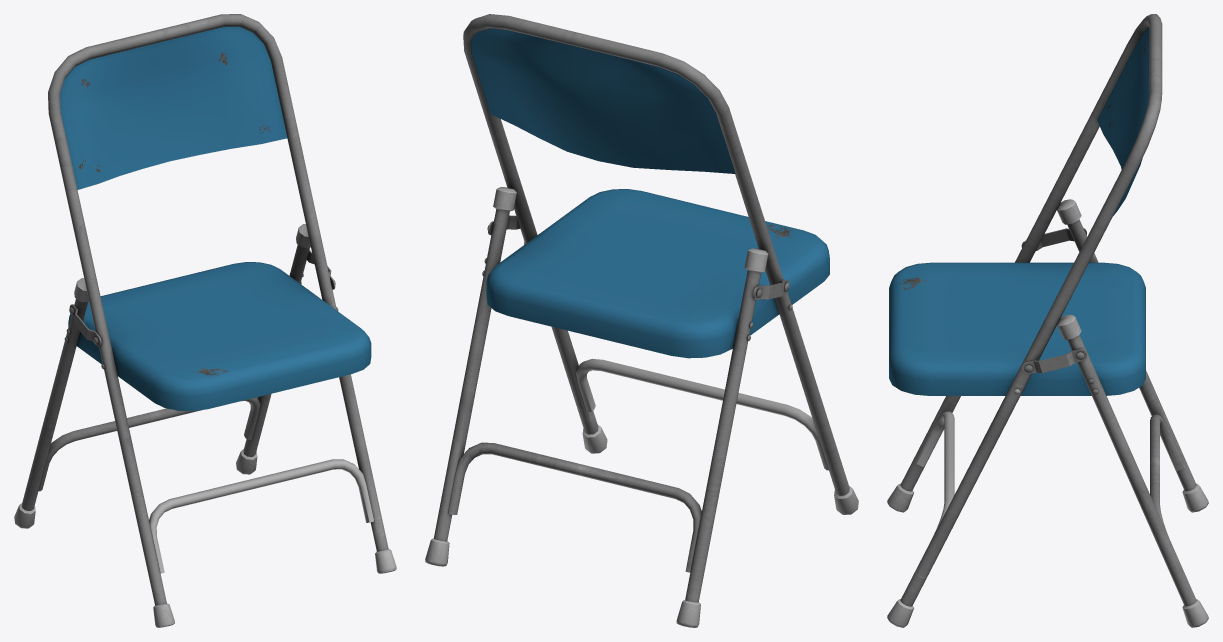
File: newChair6.glb
3 renders of one model, left to right at view 1: azimuth 30°, elevation 25°; view 2: azimuth 150°, elevation 25°; view 3: azimuth 270°, elevation 25°, orthographic. The views are drawn at different scales.
Parts seen in each view (by area): view 1: defaultMaterial.001; view 2: defaultMaterial.001; view 3: defaultMaterial.001.
Boxes of the visible parts, x1,y1,x2,y2 form: defaultMaterial.001: (14, 14, 396, 627); defaultMaterial.001: (425, 14, 858, 627); defaultMaterial.001: (887, 14, 1208, 627).
Bounding box in the file's own units: 0.461 × 0.8722 × 0.4955.
1 material, 1 textured.
